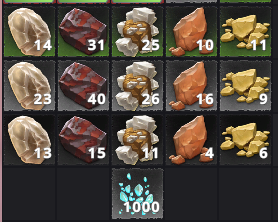cinnabar mineral: (59, 61, 109, 111), (58, 7, 108, 55), (59, 116, 109, 164)
dolomite mineral: (114, 61, 163, 110), (112, 7, 161, 54), (114, 116, 161, 164)
ethereal dust: (113, 169, 163, 218)
halite mineral: (5, 60, 54, 110), (6, 6, 54, 55), (4, 116, 53, 164)
nitre mineral: (166, 6, 216, 55), (169, 61, 216, 110), (168, 116, 216, 163)
sulphur mineral: (220, 115, 270, 164), (221, 7, 270, 55), (222, 61, 269, 109)
